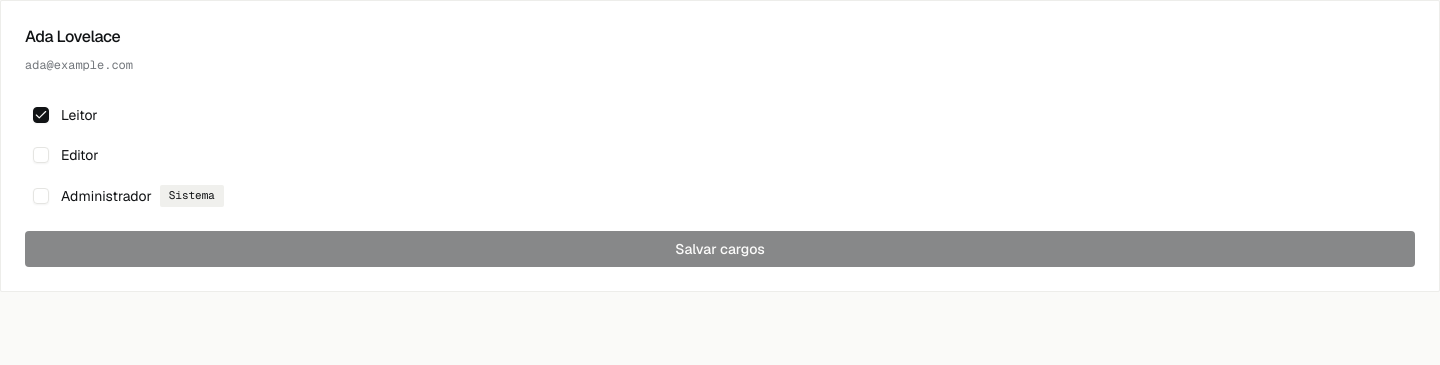
UserCard › only enables saving after a change, and warns about it
Expected: the button "Salvar cargos" is disabled, [25,231,1415,267]
Expected: the text "Existem alterações de cargos ainda não salvas" is not shown
Click the checkbox named "Editor" at [41, 155], box [33,147,49,163]
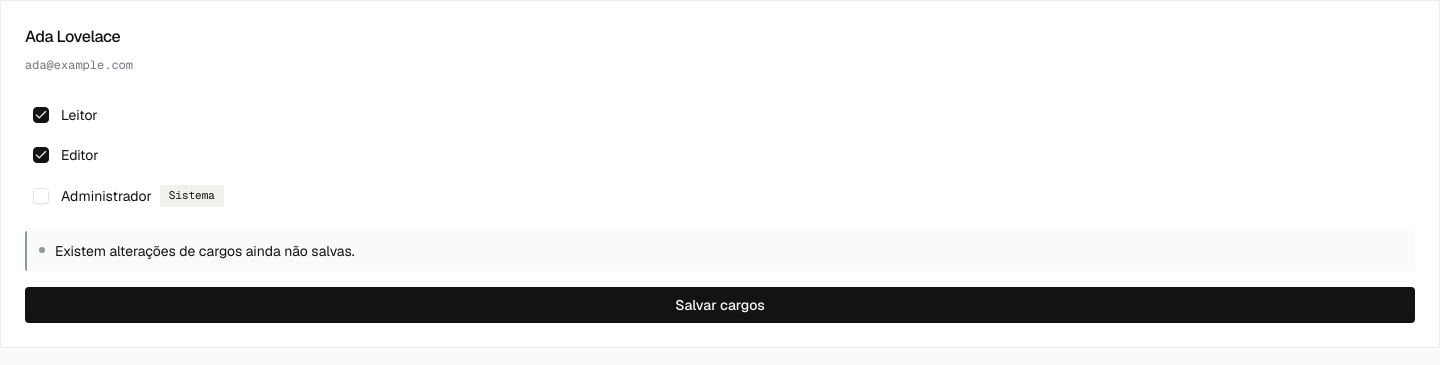
Now the button "Salvar cargos" is enabled, box [25,287,1415,323]
Now the text "Existem alterações de cargos ainda não salvas" is shown, box [55,242,355,260]
